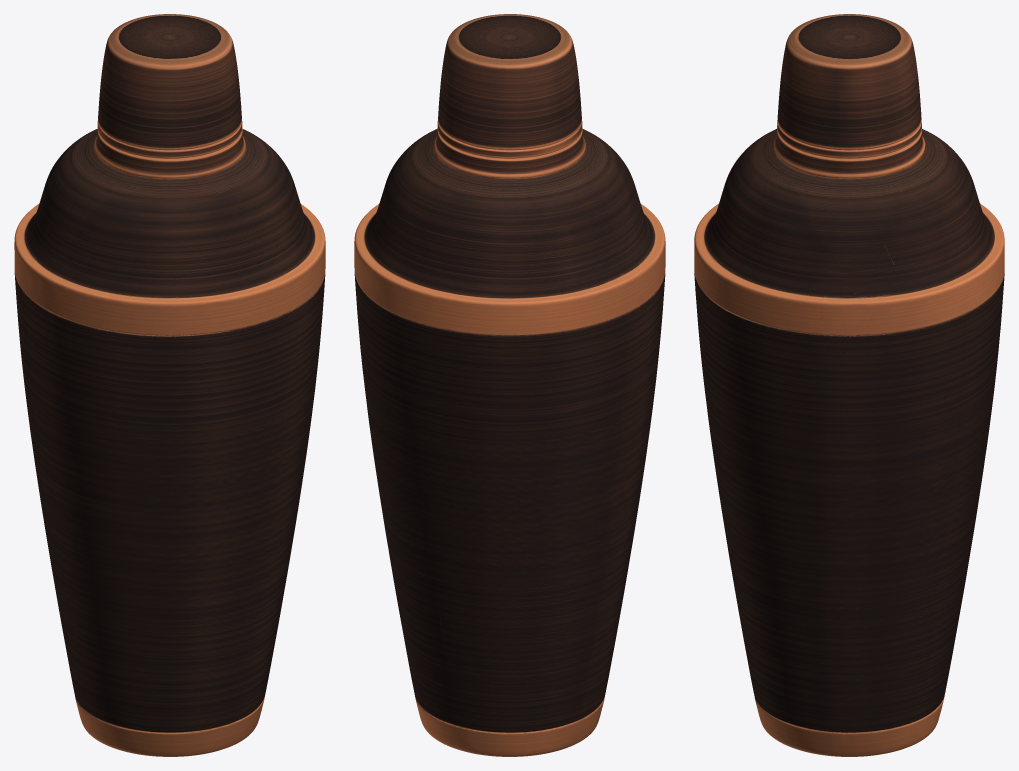
Rendered from shaker.glb.
The picture shows the model from 3 angles, left to right: view 1: azimuth 30°, elevation 25°; view 2: azimuth 150°, elevation 25°; view 3: azimuth 270°, elevation 25°; orthographic projection.
Size of the model in its own units: 0.7826 by 1.9 by 0.7828.
Materials: 1 (1 with a texture image).
